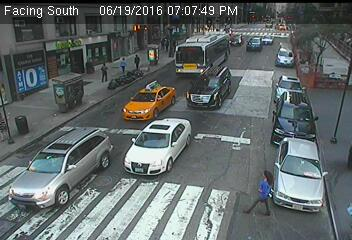neg: (39, 9, 68, 46), (52, 72, 74, 101), (8, 61, 28, 88), (223, 62, 242, 88), (220, 29, 237, 51), (247, 44, 262, 64), (70, 33, 83, 50)
pos: (244, 166, 282, 217), (96, 60, 115, 85), (115, 54, 131, 74), (131, 51, 143, 68), (157, 34, 169, 50)
